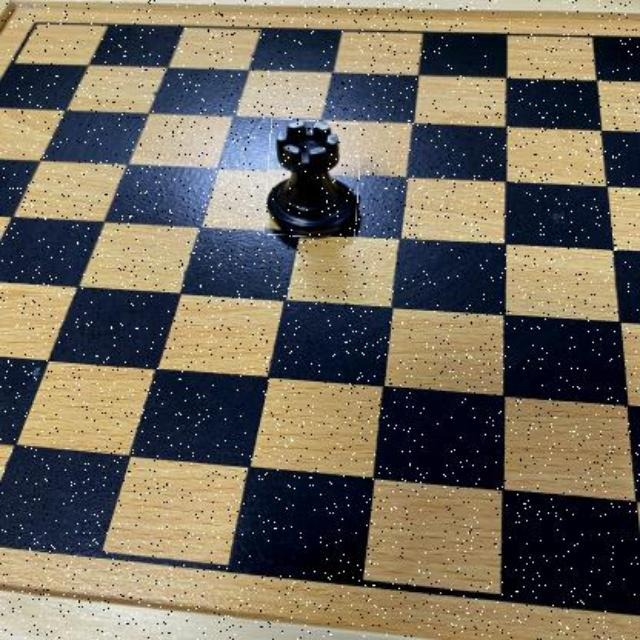black-rook: (265, 120, 360, 238)
